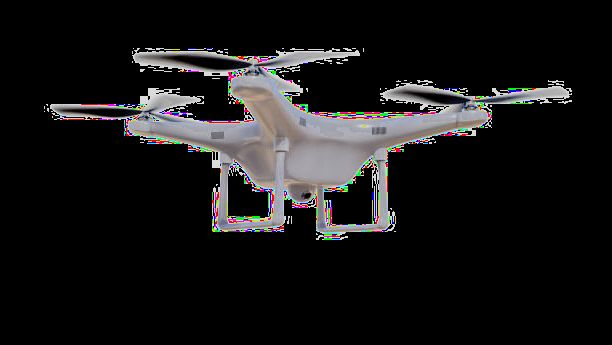Drone: (39, 39, 575, 256)
